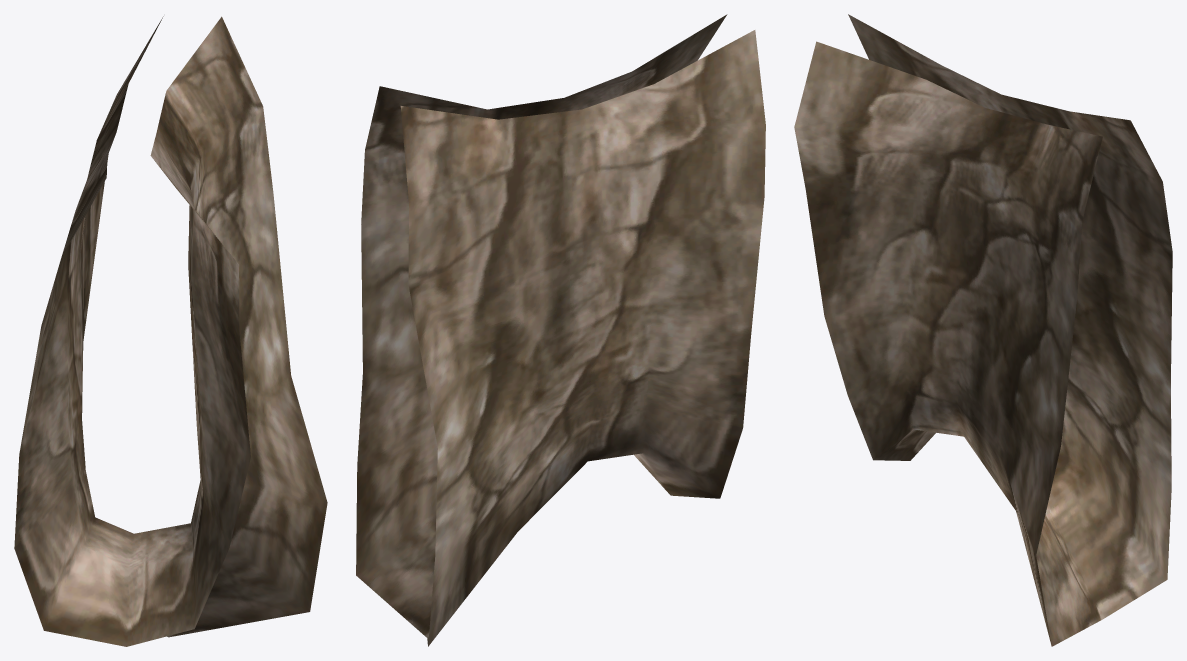
The model's file is OVERHILL_A_01_LINE253.fbx.
3 renders of one model, left to right at view 1: azimuth 30°, elevation 25°; view 2: azimuth 150°, elevation 25°; view 3: azimuth 270°, elevation 25°, orthographic. The views are drawn at different scales.
Visible parts, largest first — view 1: OVERHILL_A_01_LINE253; view 2: OVERHILL_A_01_LINE253; view 3: OVERHILL_A_01_LINE253.
Part boxes in pixels (x1,y1,x2,y2): OVERHILL_A_01_LINE253: [14, 16, 327, 646]; OVERHILL_A_01_LINE253: [356, 14, 765, 646]; OVERHILL_A_01_LINE253: [794, 14, 1172, 646].
Bounding box in the file's own units: 34696 × 55120 × 36479.
1 material, 1 textured.
